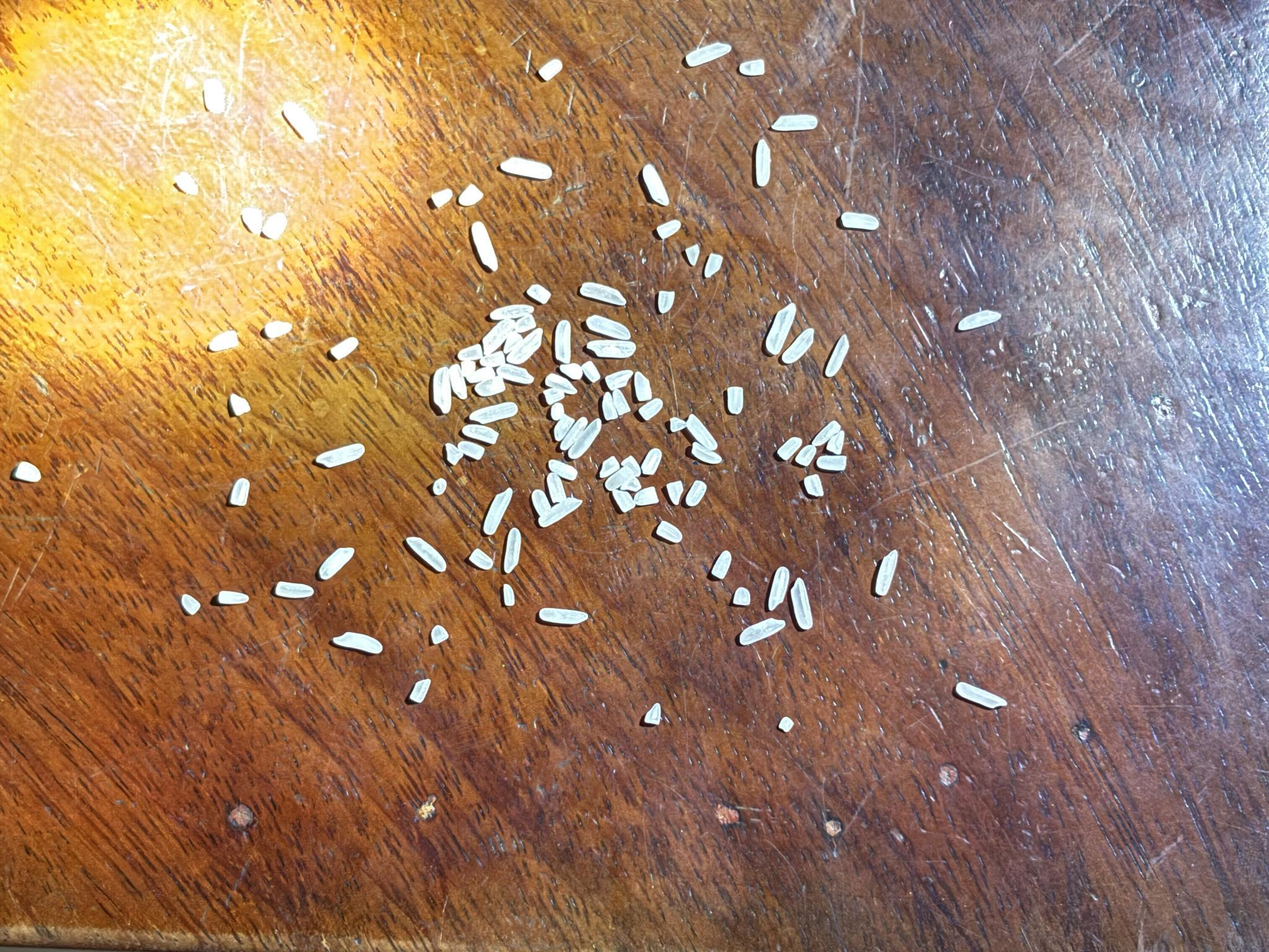Rice-th-y-nh: (760, 301, 800, 357), (500, 149, 553, 187), (738, 611, 786, 652), (479, 485, 516, 537), (467, 220, 503, 273), (405, 532, 448, 576), (784, 578, 820, 630), (333, 624, 383, 661), (315, 437, 365, 474), (506, 325, 547, 370), (538, 492, 583, 533), (468, 395, 519, 431), (586, 330, 637, 366), (281, 98, 320, 145), (579, 275, 627, 313), (567, 416, 606, 462), (685, 35, 732, 73), (584, 309, 631, 346), (954, 679, 1007, 711), (870, 548, 904, 597), (637, 163, 673, 208), (426, 366, 459, 415), (771, 106, 818, 140), (779, 325, 816, 368), (762, 565, 795, 612), (538, 600, 588, 631), (821, 333, 854, 379), (480, 315, 516, 357), (957, 304, 1001, 338), (747, 139, 778, 187), (497, 527, 528, 574), (684, 412, 720, 452), (547, 319, 578, 365), (317, 545, 356, 580), (490, 297, 536, 326), (840, 205, 879, 237), (558, 414, 589, 454), (200, 76, 231, 116), (274, 575, 314, 606), (496, 359, 535, 389), (459, 421, 500, 446), (810, 418, 841, 450), (654, 516, 685, 548), (260, 210, 290, 243), (473, 373, 507, 401), (604, 364, 634, 394), (239, 204, 267, 236), (446, 364, 470, 401), (544, 470, 570, 504), (630, 370, 656, 404), (543, 371, 578, 396), (547, 457, 579, 484), (689, 442, 723, 467), (604, 465, 634, 493), (709, 549, 734, 582), (776, 434, 804, 463), (457, 181, 485, 210), (816, 450, 848, 475), (528, 487, 553, 518), (209, 328, 240, 353), (637, 395, 664, 423), (738, 54, 766, 81), (330, 336, 360, 361), (639, 447, 664, 477), (551, 412, 575, 443), (684, 478, 708, 509), (724, 384, 747, 416), (611, 487, 637, 515), (632, 483, 660, 509), (801, 472, 827, 500), (456, 438, 486, 462), (598, 390, 621, 421), (466, 363, 497, 386), (656, 215, 682, 242), (173, 170, 200, 196), (479, 348, 508, 372), (701, 251, 725, 280), (217, 587, 250, 608), (610, 387, 633, 417), (513, 310, 538, 337), (263, 318, 293, 340), (825, 429, 849, 456), (408, 677, 432, 704), (663, 478, 686, 506), (13, 461, 42, 483), (230, 478, 252, 507), (597, 455, 621, 481), (794, 442, 818, 468), (538, 58, 564, 82), (620, 453, 643, 479), (501, 329, 524, 355), (526, 283, 552, 306), (558, 360, 584, 383), (654, 289, 677, 315), (468, 548, 494, 571), (456, 342, 484, 363), (430, 185, 454, 209), (618, 472, 643, 495), (581, 358, 602, 385), (229, 393, 252, 416), (443, 442, 465, 466), (542, 385, 566, 407), (180, 593, 202, 616), (731, 585, 753, 608), (429, 624, 451, 647), (643, 702, 664, 726), (683, 242, 703, 267), (499, 583, 518, 607), (667, 414, 686, 435), (459, 359, 478, 379), (431, 477, 449, 497), (549, 401, 566, 422), (777, 716, 795, 734)
